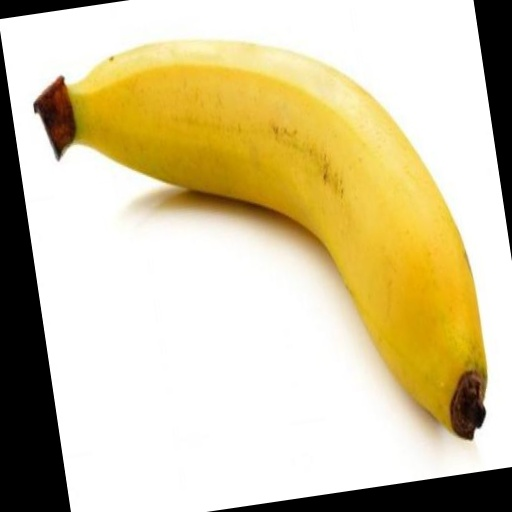fruit: (34, 42, 486, 439)
